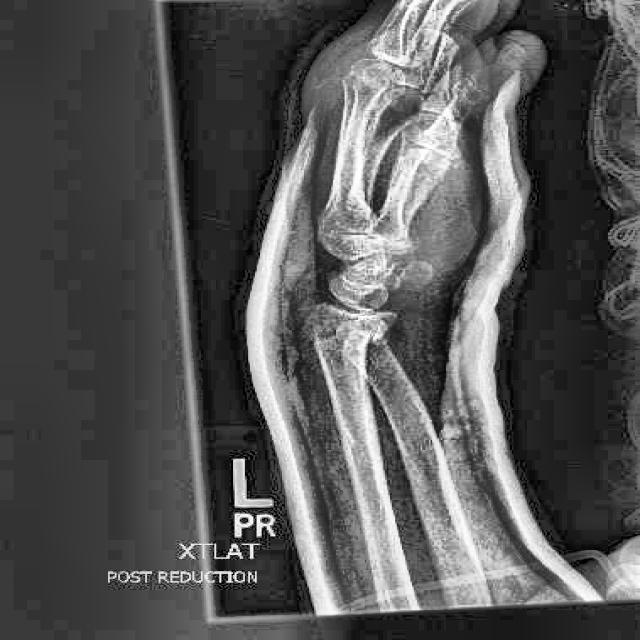wrist positive: (297, 307, 412, 359)
